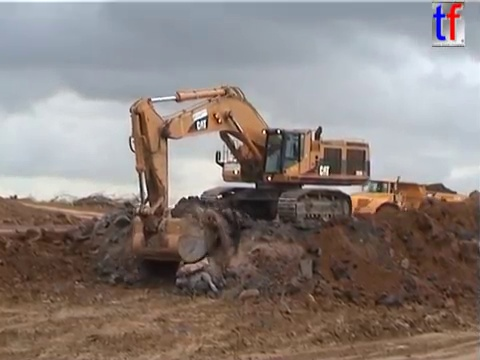excavator: (125, 82, 373, 265)
truck: (343, 174, 480, 230)
